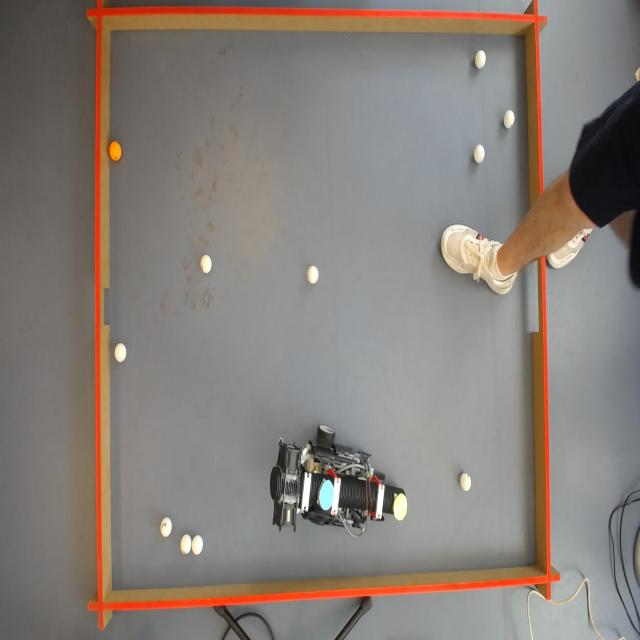orange: (110, 140, 122, 162)
robot: (268, 424, 408, 533)
robot-front: (392, 492, 410, 522)
robot-rear: (316, 479, 336, 514)
white: (191, 536, 205, 555), (181, 534, 193, 556), (476, 49, 488, 70), (307, 265, 320, 284), (474, 145, 487, 164), (115, 343, 128, 362), (458, 472, 471, 491), (159, 518, 173, 535), (503, 110, 515, 128), (201, 256, 212, 274)
